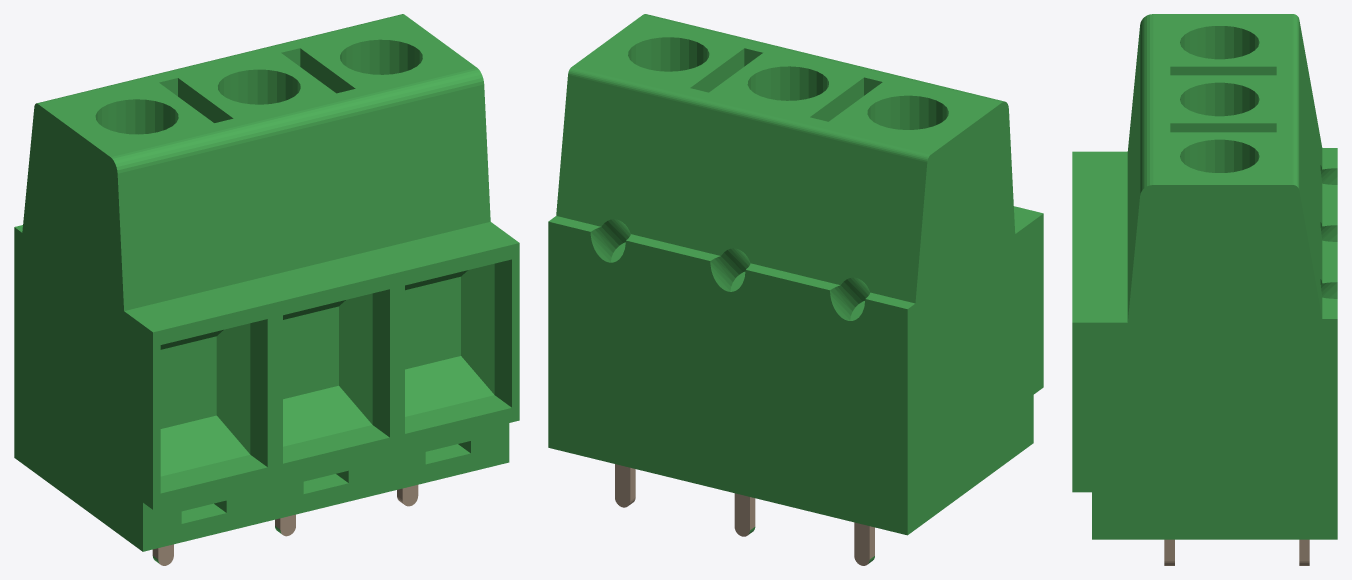
The picture shows the model from 3 angles, left to right: view 1: azimuth 30°, elevation 25°; view 2: azimuth 150°, elevation 25°; view 3: azimuth 270°, elevation 25°; orthographic projection. The views are drawn at different scales.
Visible parts, largest first — view 1: EM292903-UL; view 2: EM292903-UL; view 3: EM292903-UL.
Boxes of the visible parts, x1=… form: EM292903-UL: x1=14, y1=14, x2=519, y2=565; EM292903-UL: x1=548, y1=14, x2=1043, y2=565; EM292903-UL: x1=1072, y1=14, x2=1337, y2=565.
Bounding box in the file's own units: 0.0217 × 0.0242 × 0.0142.
